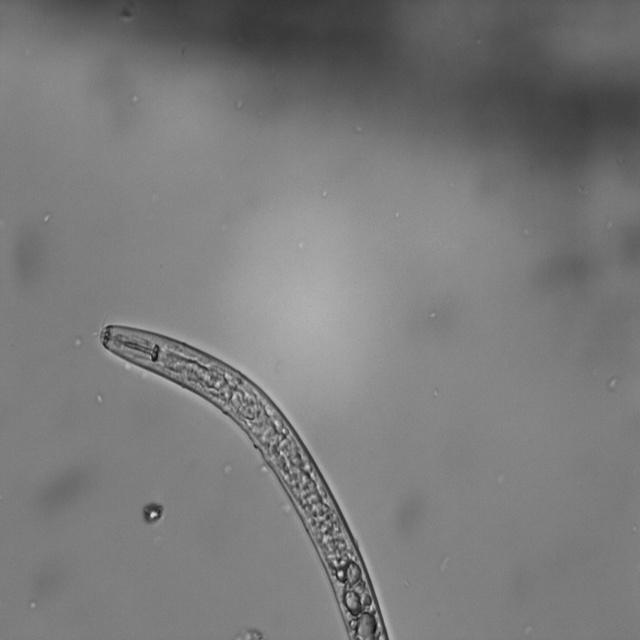Helicotylenchus: (96, 322, 394, 640)
